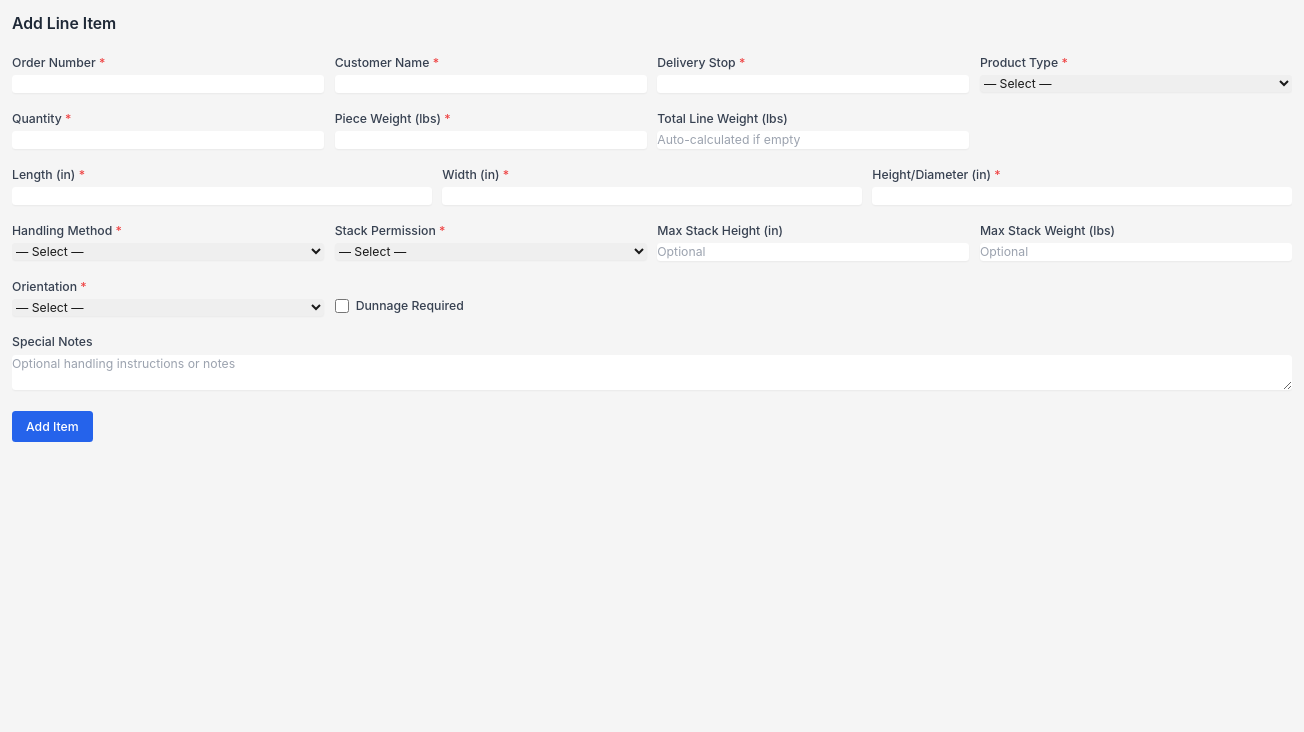
Test: ManualEntryForm: Inline Validation › shows validation errors when required fields are empty
Note: Submit without filling any fields
Click the button "Add Item" at (52, 426), box [12,410,93,442]
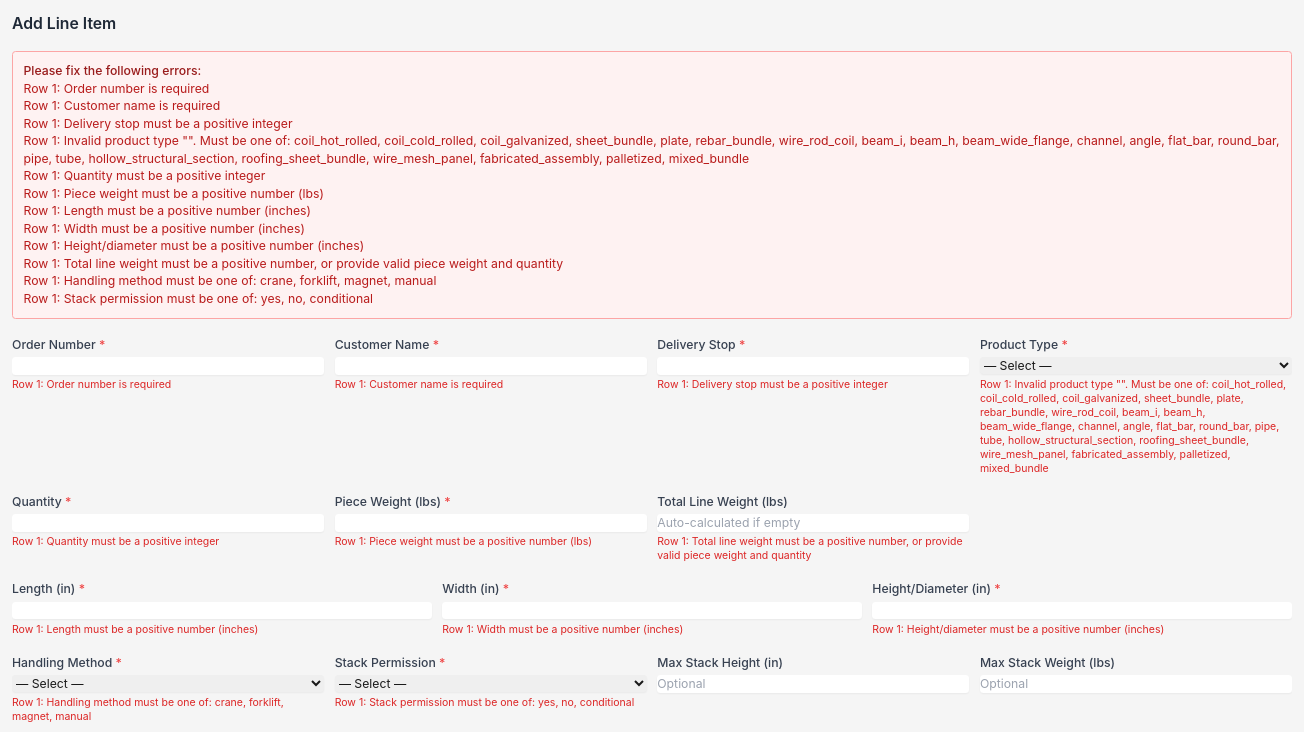
Now the message is shown, box [12,50,1292,318]
